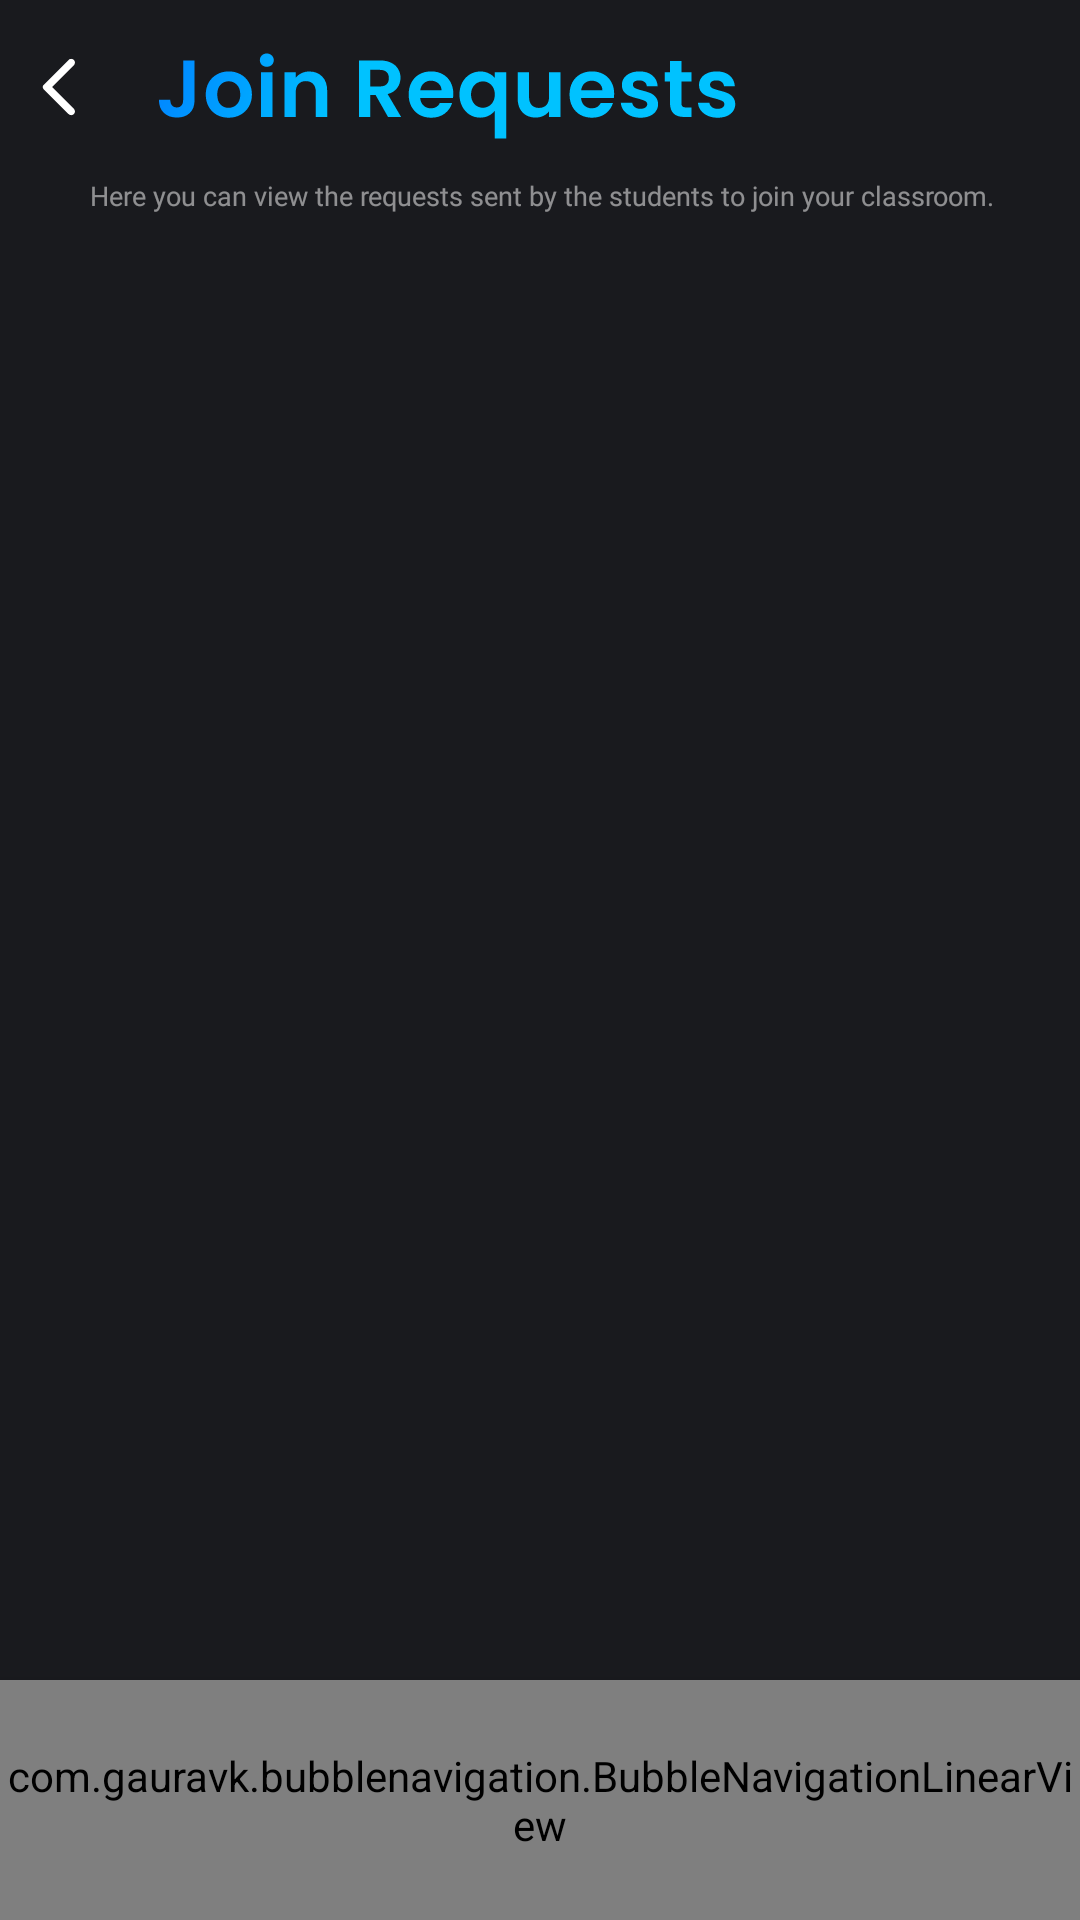

Point at icon controls on the screen. Image size 1080×1920, points as point (x, y).
back: point (58, 87)
